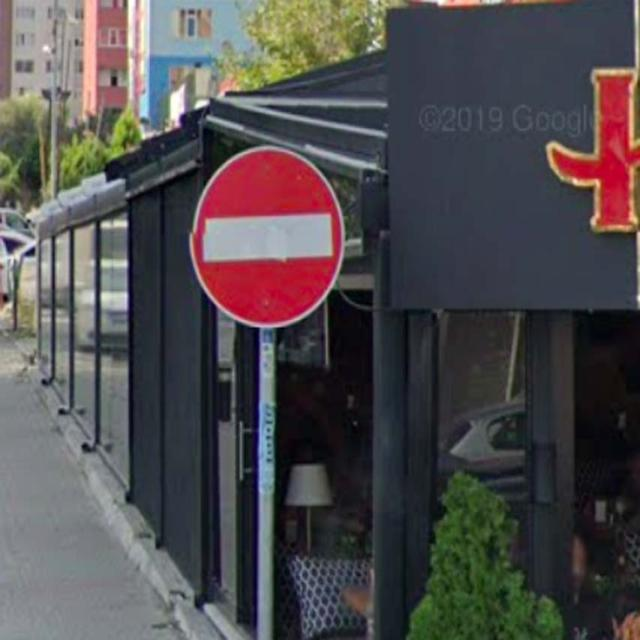girisyok: (189, 145, 346, 326)
